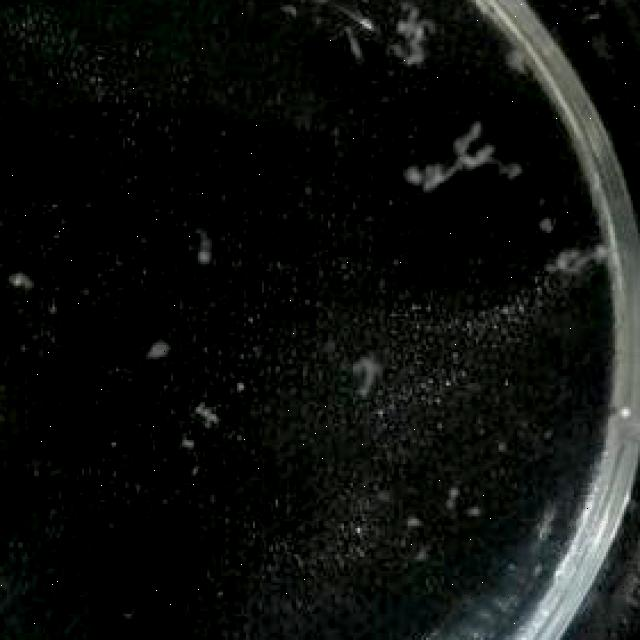Microplastic: (383, 107, 519, 202), (533, 209, 631, 293), (292, 0, 398, 67), (594, 376, 640, 504), (383, 0, 453, 76), (348, 333, 408, 400), (178, 221, 225, 283), (2, 245, 52, 290), (184, 388, 237, 430), (139, 333, 182, 381)
